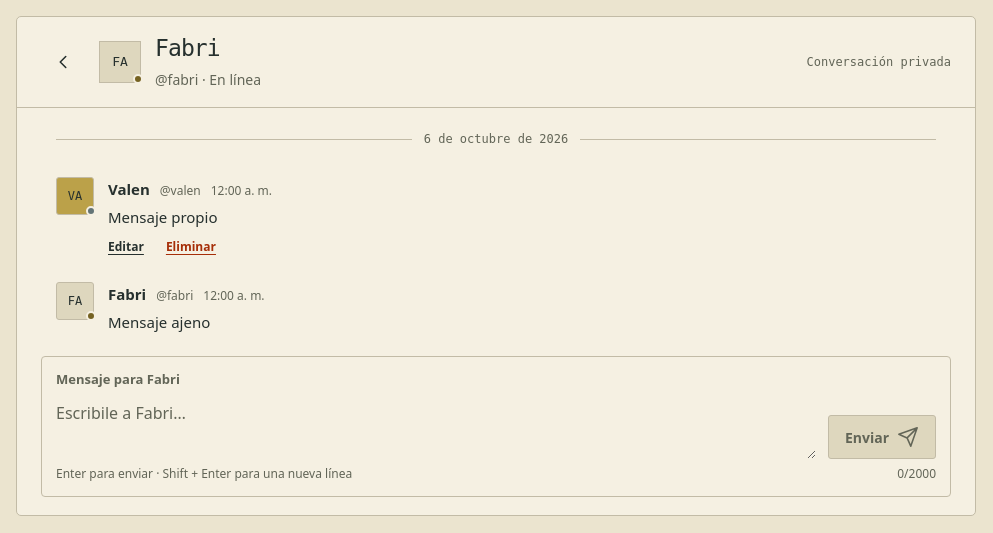
Test: limpia el texto confirmado pero no texto nuevo escrito mientras espera el ack
This screenshot has width=993, height=533.
Type "Primero" into the text box labelled "Mensaje para Fabri" at (436, 427), box [56,394,816,459]
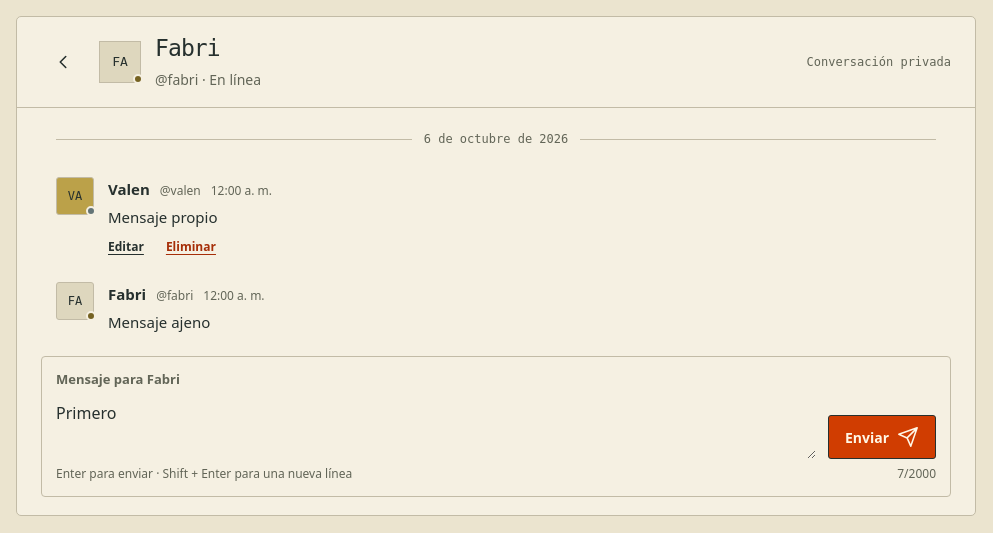
Click the button with aria-label "Enviar mensaje" at (882, 437), box [828,415,936,459]
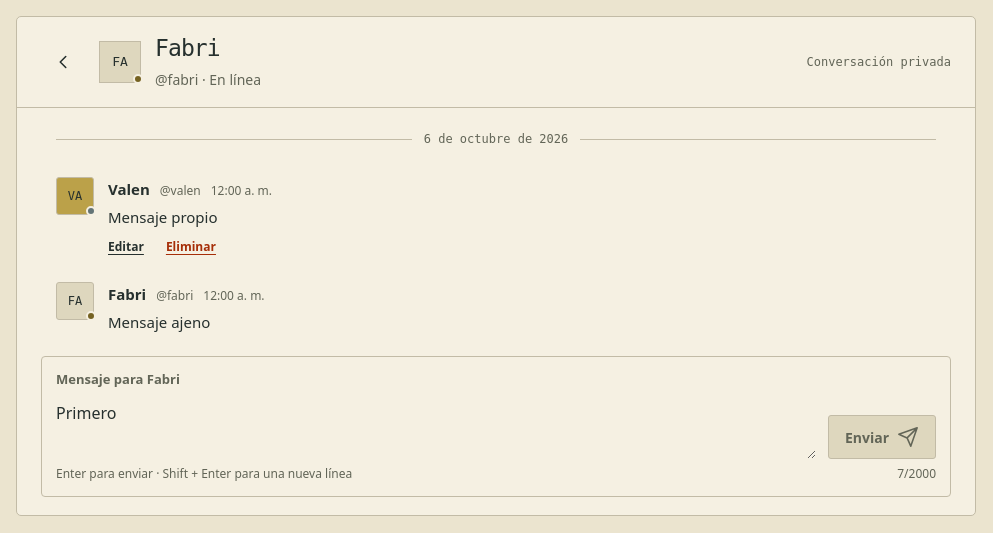
Replace the text in the text box labelled "Mensaje para Fabri" with "Segundo" at (436, 427), box [56,394,816,459]
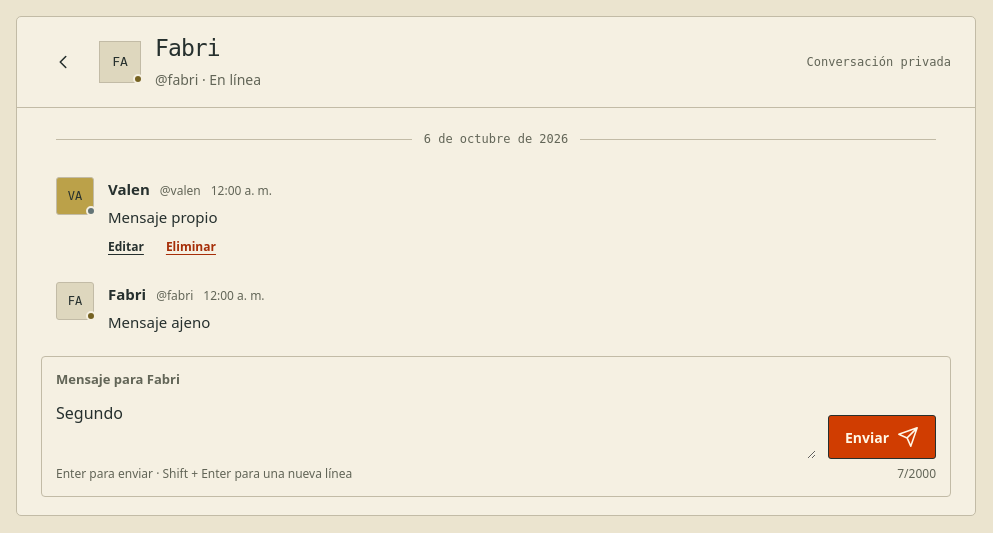
Expected: the button with aria-label "Enviar mensaje" is enabled, [828,415,936,459]
